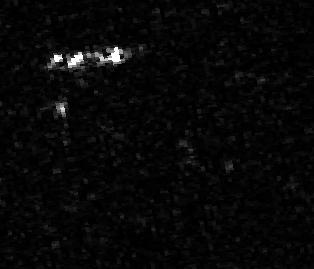ship: (48, 45, 130, 71)
